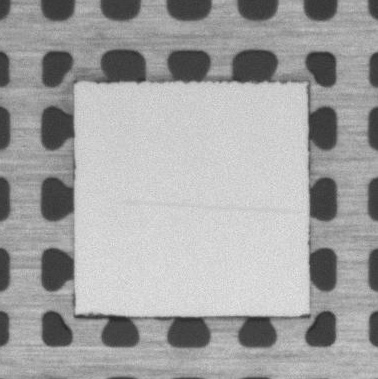DIE_CRACK: (123, 203, 298, 213)
